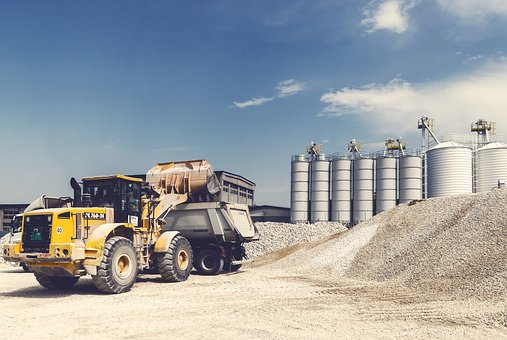excavator: (2, 155, 264, 294)
